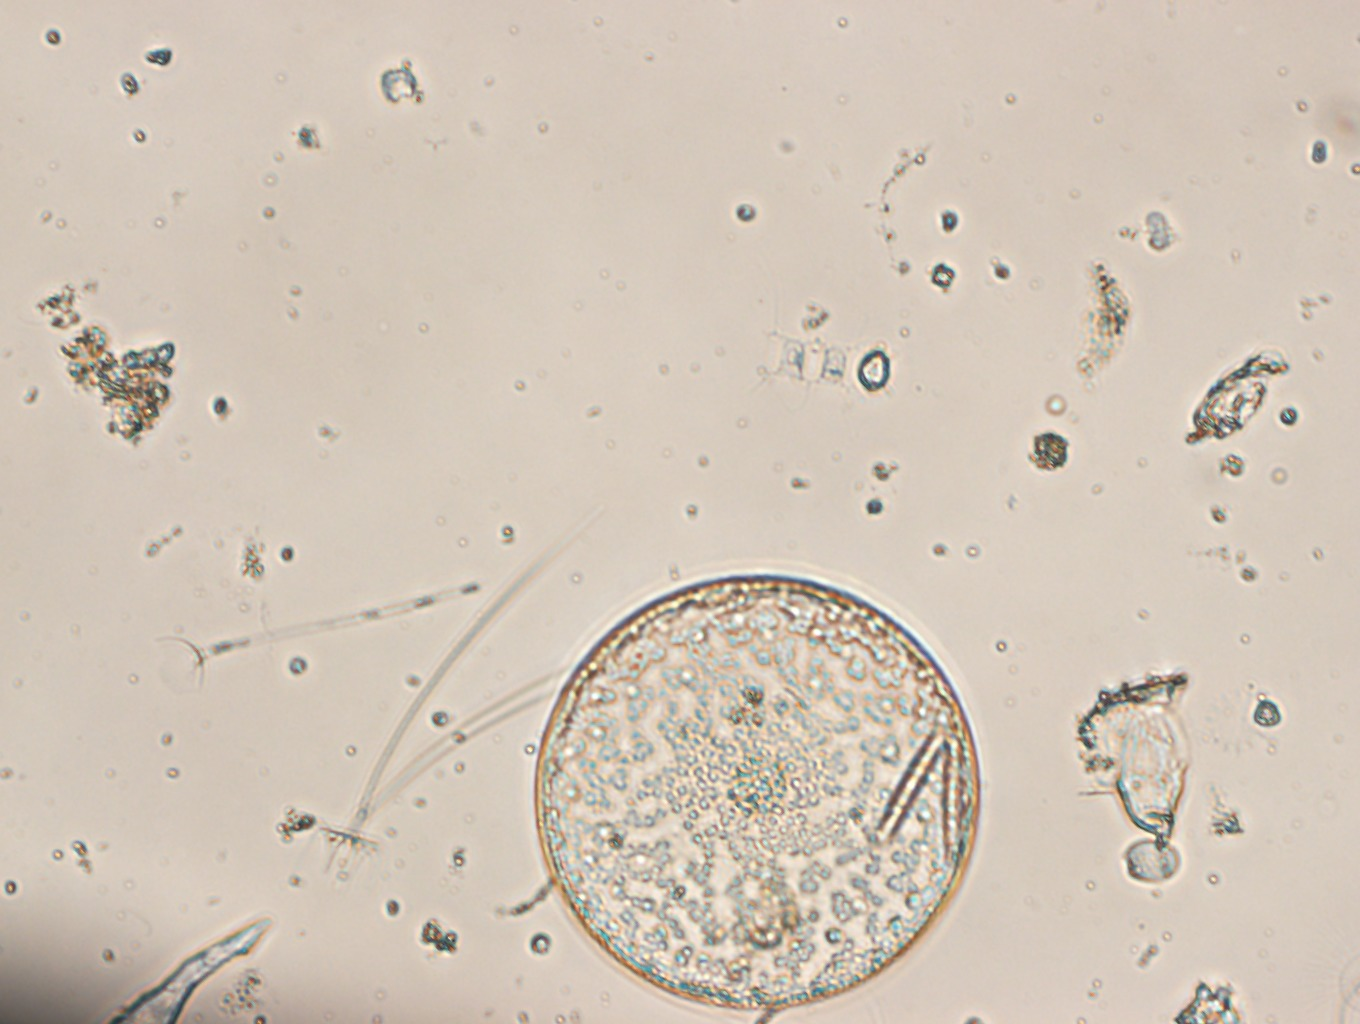coscinodiscus: (527, 557, 983, 1019)
